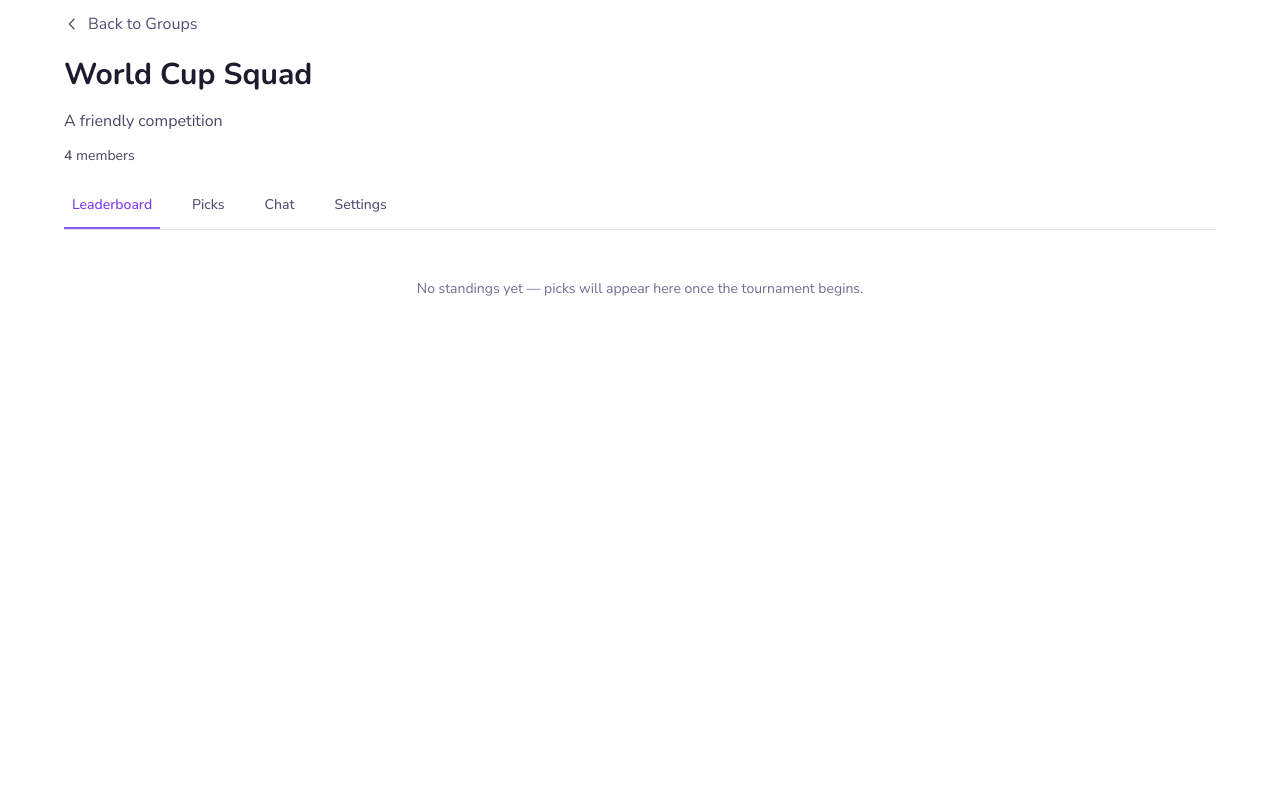
GroupDetailsPage › World Cup pool › shows the save bar on the Picks tab and removes it when switching away
Expected: the heading "World Cup Squad" is shown, [64,54,312,95]
Expected: the button "Submit Picks" is not shown
// Entering the Picks tab mounts the surface and its sticky save bar.
What coordinates should you click on to do the following:
click the tab "Picks"
I would click on:
 (208, 212)
Its box is [184,194,233,229].
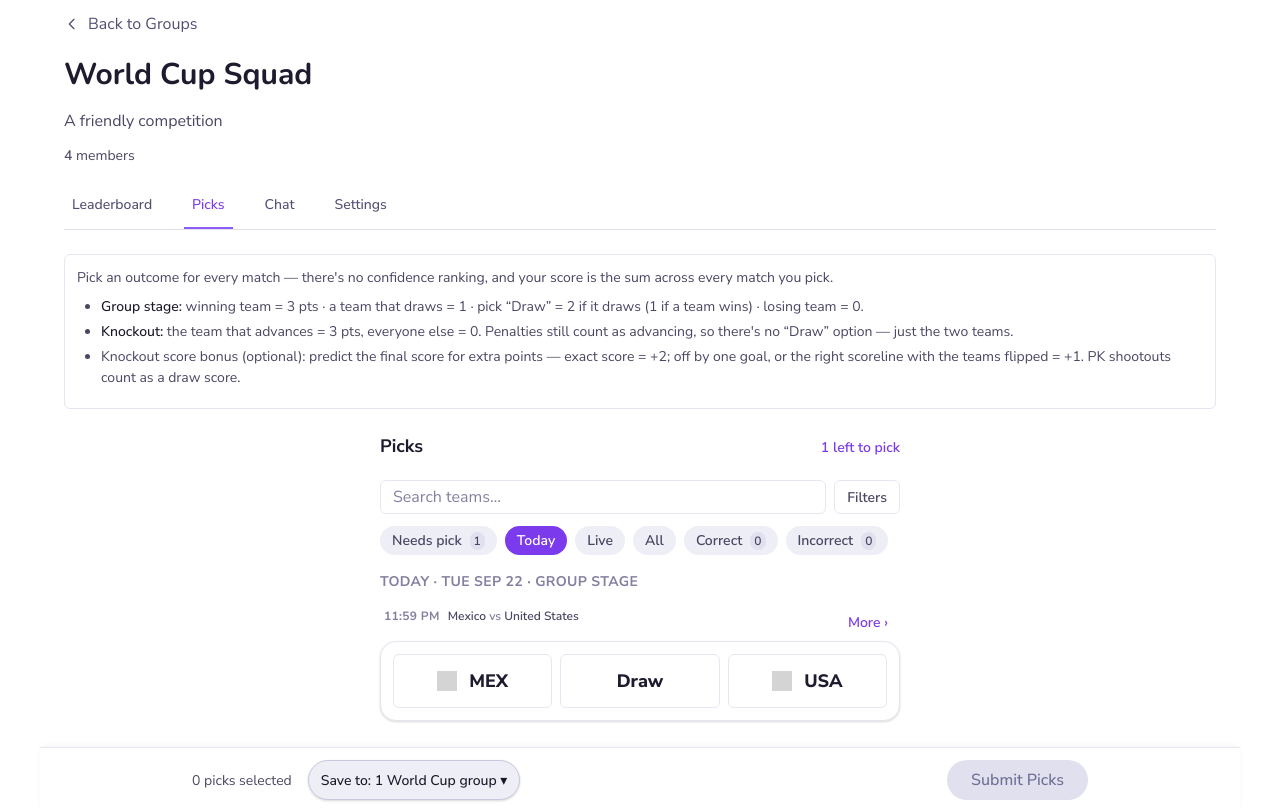
Now the element showing "Mexico vs United States" is shown, box [448,608,579,624]
Now the button "Submit Picks" is shown, box [947,760,1088,800]
Now the text "0 picks selected" is shown, box [192,770,292,790]
// Leaving the tab unmounts the surface — the save bar disappears.
What coordinates should you click on to do the following:
click the tab "Chat"
I would click on:
 (280, 212)
Its box is [257,194,302,229].
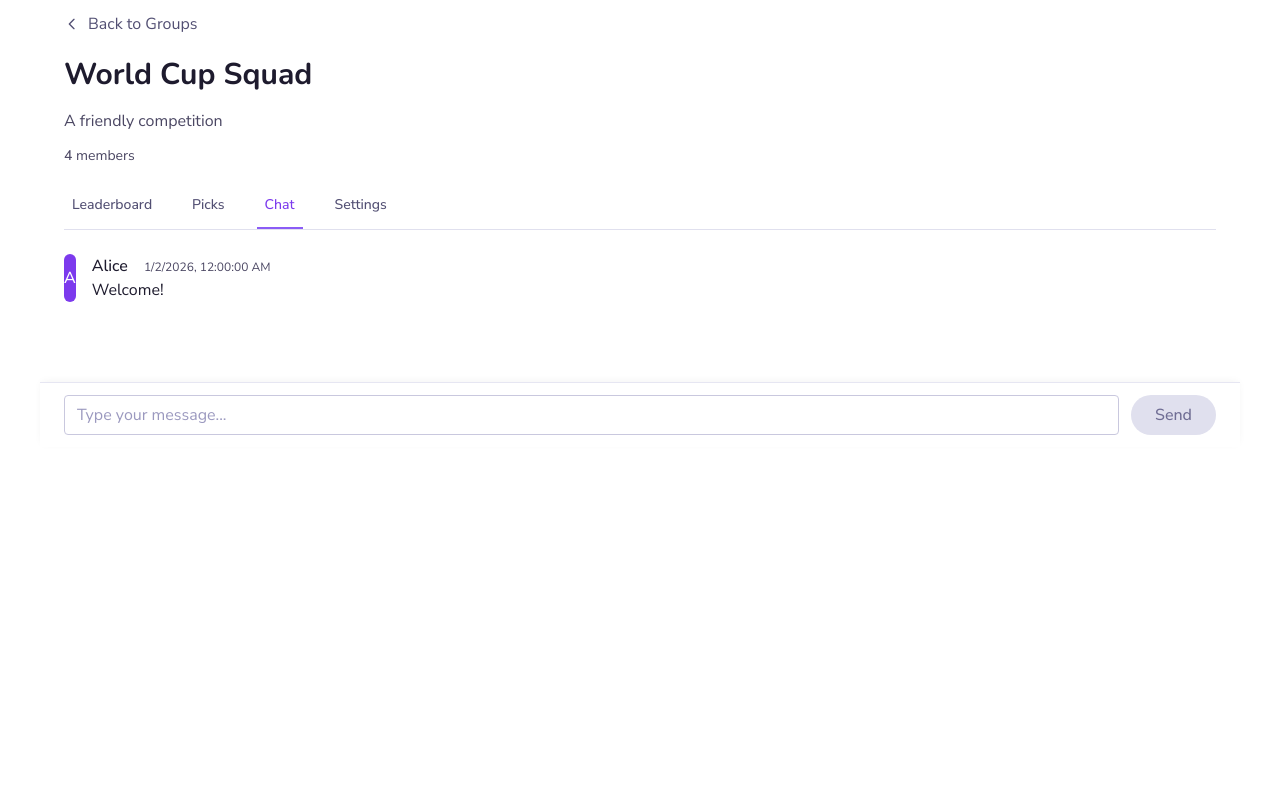
Now the button "Submit Picks" is gone
Now the text "0 picks selected" is gone
